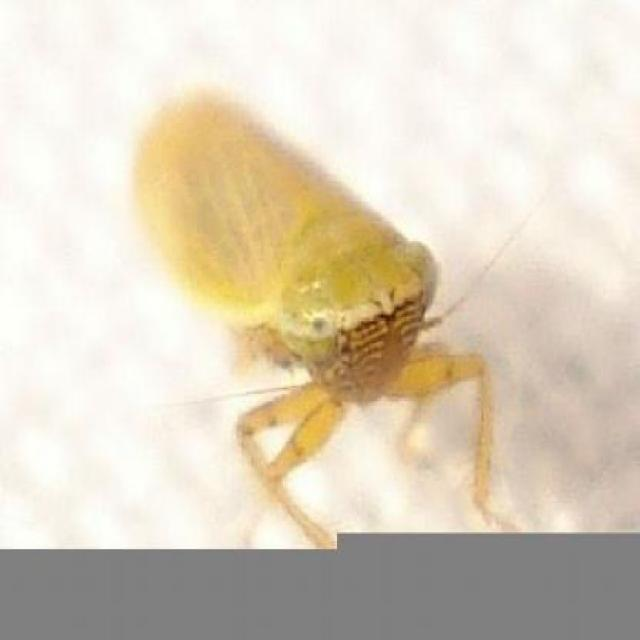green-leafhopper: (131, 81, 511, 550)
